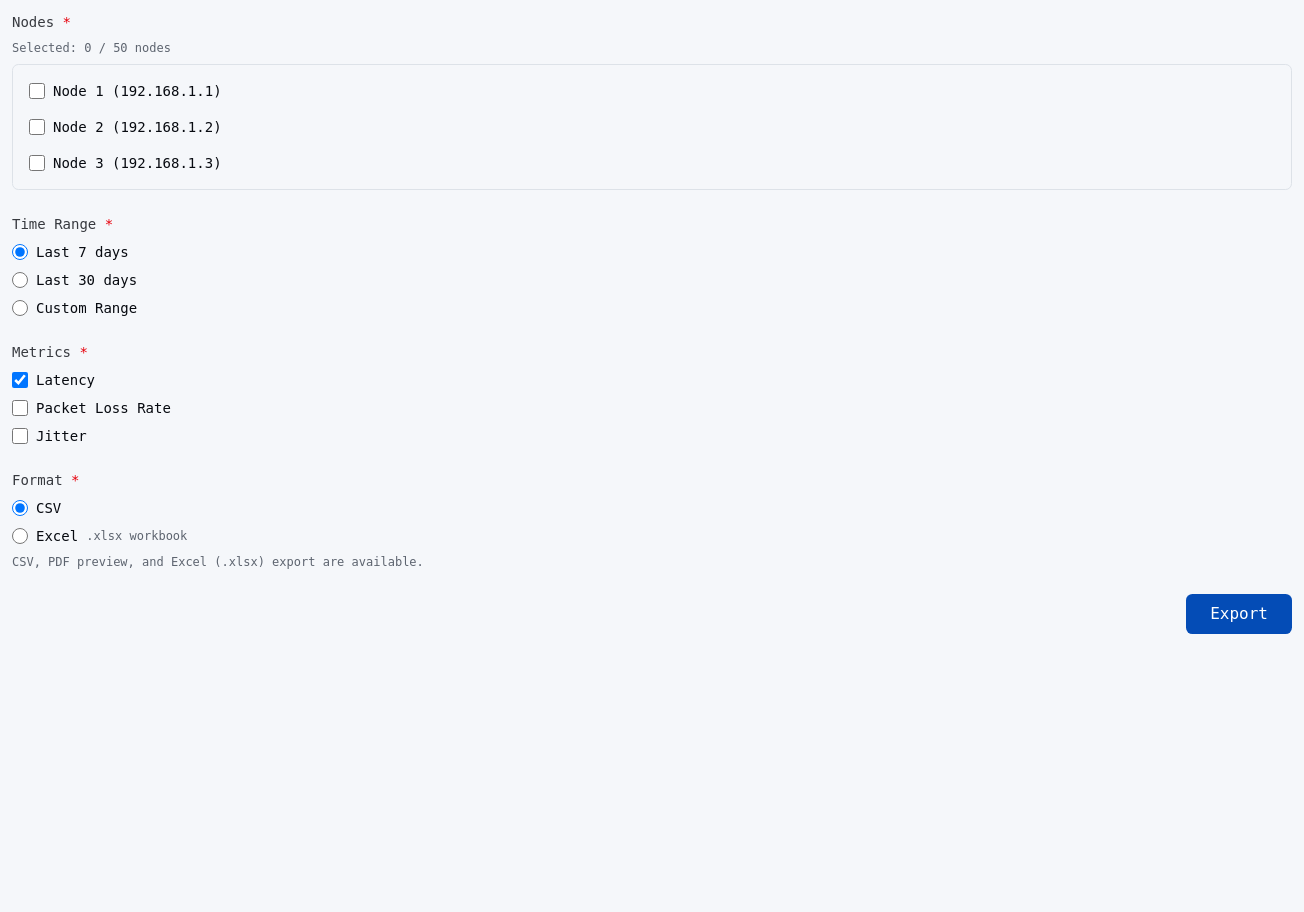
Test: ExportForm › Node Selection › validates minimum 1 node selected
Click the button "Export": (1239, 614) [1186,594,1292,634]
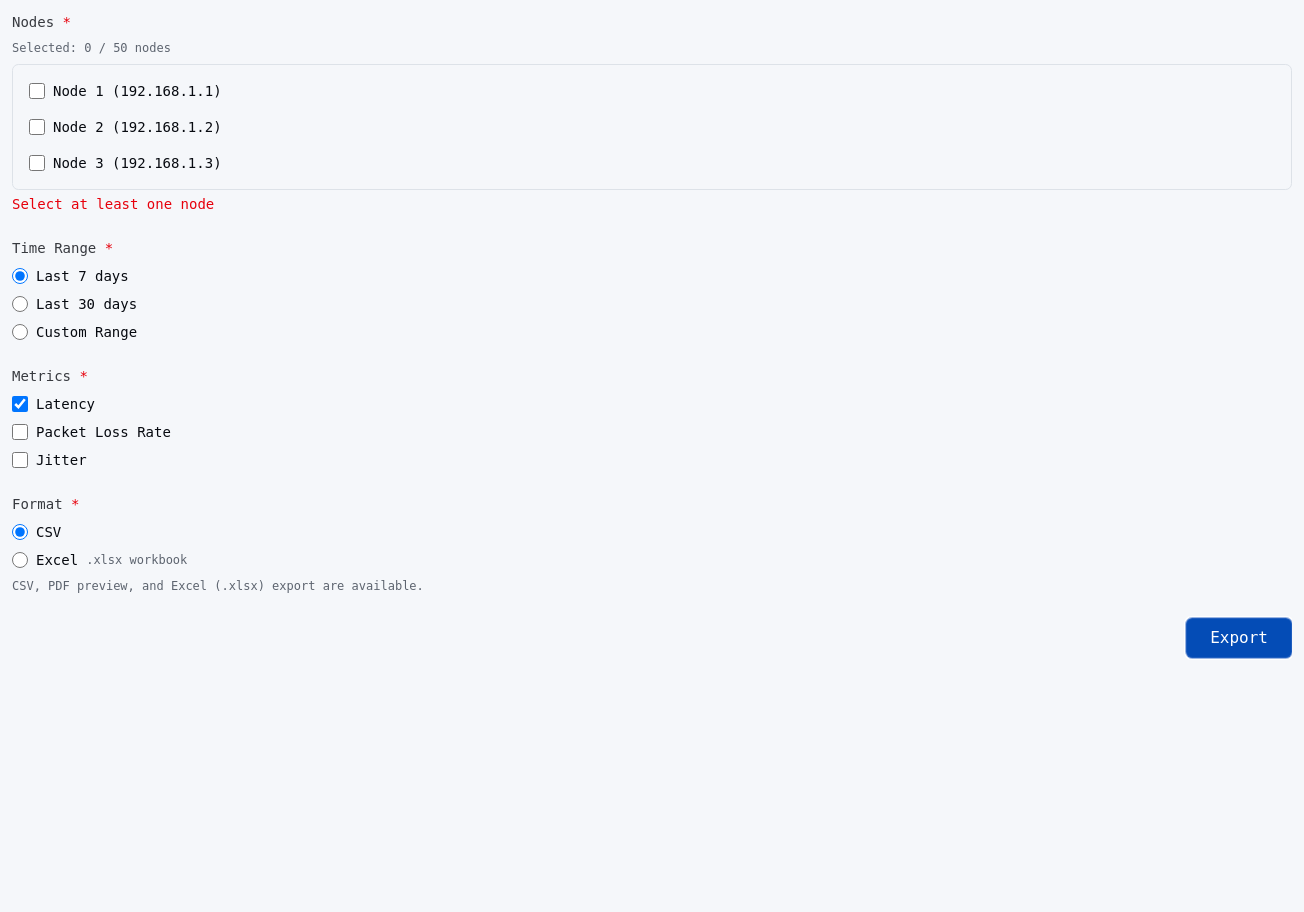
Check: the text "Select at least one node" is shown, box [12,196,214,212]
